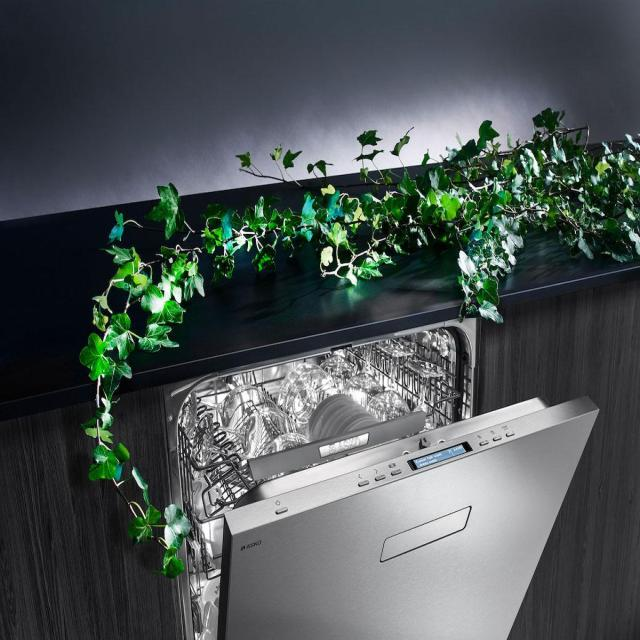dishwasher: (148, 298, 596, 640)
